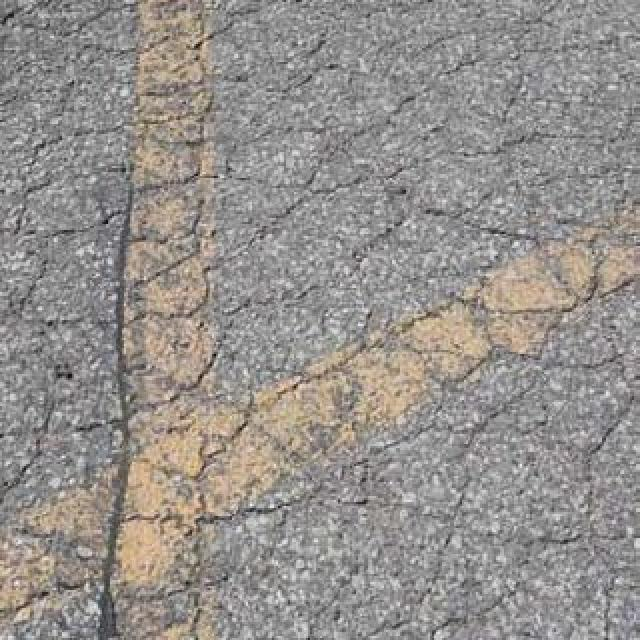Drain Hole: (32, 20, 640, 578)
